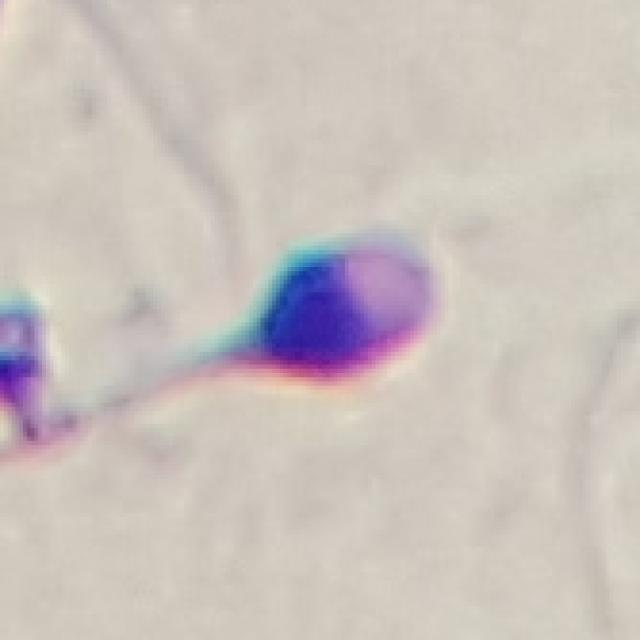normal sperm: (138, 223, 443, 408)
